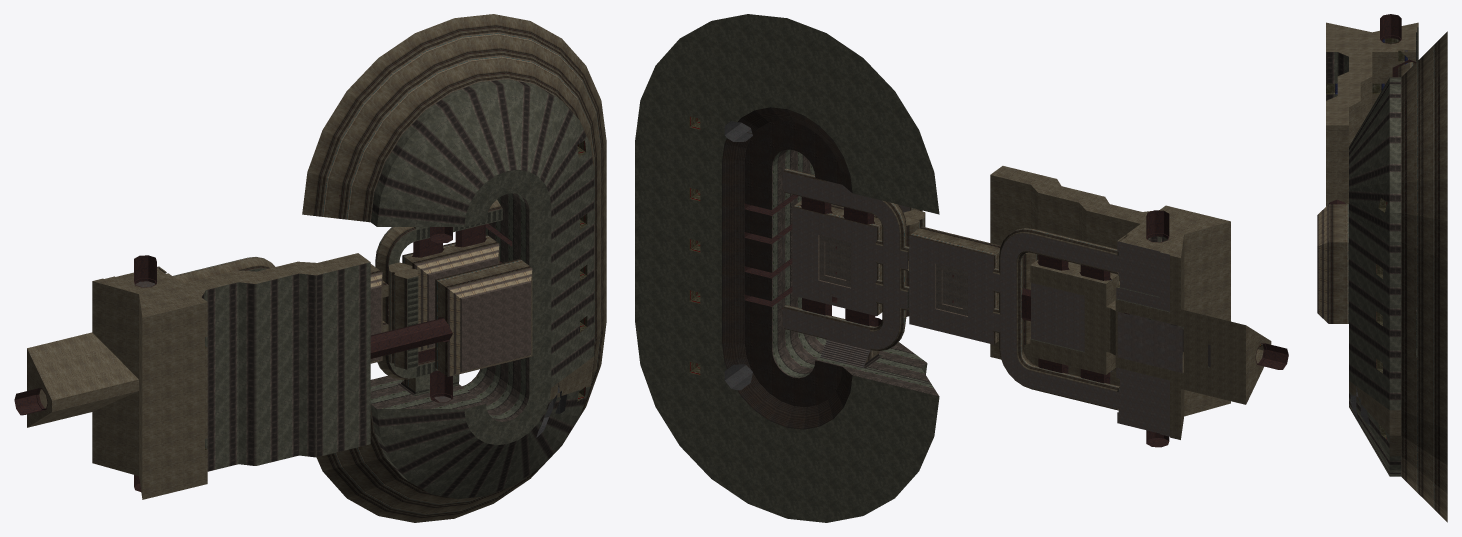
File: CTF-Control.obj
The picture shows the model from 3 angles, left to right: view 1: azimuth 30°, elevation 25°; view 2: azimuth 150°, elevation 25°; view 3: azimuth 270°, elevation 25°; orthographic projection. The views are drawn at different scales.
Parts seen in each view (by area): view 1: uttech2_Wall_rClfWl7, uttech2_Wall_rClfWl3x, uttech2_Base_rClfWl3xbase, uttech2_Base_rClfBsG3, uttech2_Wall_rClfWl5x, uttech2_Base_rClfBsB2, UTtech1_Base_Rbase1a, uttech2_pillar_rClfPlr1, uttech2_pillar_rClfPlr5, uttech2_Base_rClfBsG2; view 2: uttech2_Base_rClfBsG2, UTtech1_Floor_rClfFlr2, uttech2_Base_rClfWl3xbase, Metalmys_MysIrn13, Metalmys_MysIron1, uttech2_Wall_rClfWl5x, uttech2_Wall_rClfWl3x, UTtech1_Base_Rbase1a, uttech2_Floor_rClfFlr1x, Metalmys_MysMetl2; view 3: uttech2_Wall_rClfWl3x, uttech2_Wall_rClfWl7, uttech2_Base_rClfWl3xbase, uttech2_pillar_rClfPlr1, UTtech1_Base_Rbase1a, uttech2_Wall_rclfwl4-BLU, uttech2_Wall_rclfwl4-RED, Metalmys_MysMetl2, uttech2_Trim_rClfTrm3.
Part boxes in pixels (x1=…): uttech2_Wall_rClfWl7: x1=201, y1=79, x2=594, y2=499; uttech2_Wall_rClfWl3x: x1=172, y1=14, x2=606, y2=522; uttech2_Base_rClfWl3xbase: x1=27, y1=253, x2=594, y2=499; uttech2_Base_rClfBsG3: x1=464, y1=170, x2=551, y2=445; uttech2_Wall_rClfWl5x: x1=370, y1=193, x2=529, y2=421; uttech2_Base_rClfBsB2: x1=370, y1=258, x2=530, y2=371; UTtech1_Base_Rbase1a: x1=14, y1=195, x2=512, y2=491; uttech2_pillar_rClfPlr1: x1=370, y1=244, x2=532, y2=376; uttech2_pillar_rClfPlr5: x1=248, y1=209, x2=502, y2=377; uttech2_Base_rClfBsG2: x1=255, y1=227, x2=459, y2=391; uttech2_Base_rClfBsG2: x1=635, y1=14, x2=939, y2=522; UTtech1_Floor_rClfFlr2: x1=777, y1=172, x2=1210, y2=436; uttech2_Base_rClfWl3xbase: x1=903, y1=166, x2=1271, y2=439; Metalmys_MysIrn13: x1=744, y1=120, x2=842, y2=407; Metalmys_MysIron1: x1=722, y1=107, x2=852, y2=429; uttech2_Wall_rClfWl5x: x1=772, y1=149, x2=939, y2=396; uttech2_Wall_rClfWl3x: x1=784, y1=168, x2=1262, y2=410; UTtech1_Base_Rbase1a: x1=744, y1=190, x2=1288, y2=447; uttech2_Floor_rClfFlr1x: x1=747, y1=132, x2=967, y2=342; Metalmys_MysMetl2: x1=724, y1=120, x2=752, y2=390; uttech2_Wall_rClfWl3x: x1=1329, y1=31, x2=1447, y2=522; uttech2_Wall_rClfWl7: x1=1326, y1=52, x2=1401, y2=476; uttech2_Base_rClfWl3xbase: x1=1326, y1=22, x2=1418, y2=456; uttech2_pillar_rClfPlr1: x1=1317, y1=204, x2=1328, y2=323; UTtech1_Base_Rbase1a: x1=1329, y1=14, x2=1415, y2=204; uttech2_Wall_rclfwl4-BLU: x1=1326, y1=38, x2=1415, y2=94; uttech2_Wall_rclfwl4-RED: x1=1376, y1=198, x2=1387, y2=439; Metalmys_MysMetl2: x1=1350, y1=387, x2=1370, y2=426; uttech2_Trim_rClfTrm3: x1=1416, y1=27, x2=1418, y2=357.
Bounding box in the file's own units: 138 × 107 × 27.43.
